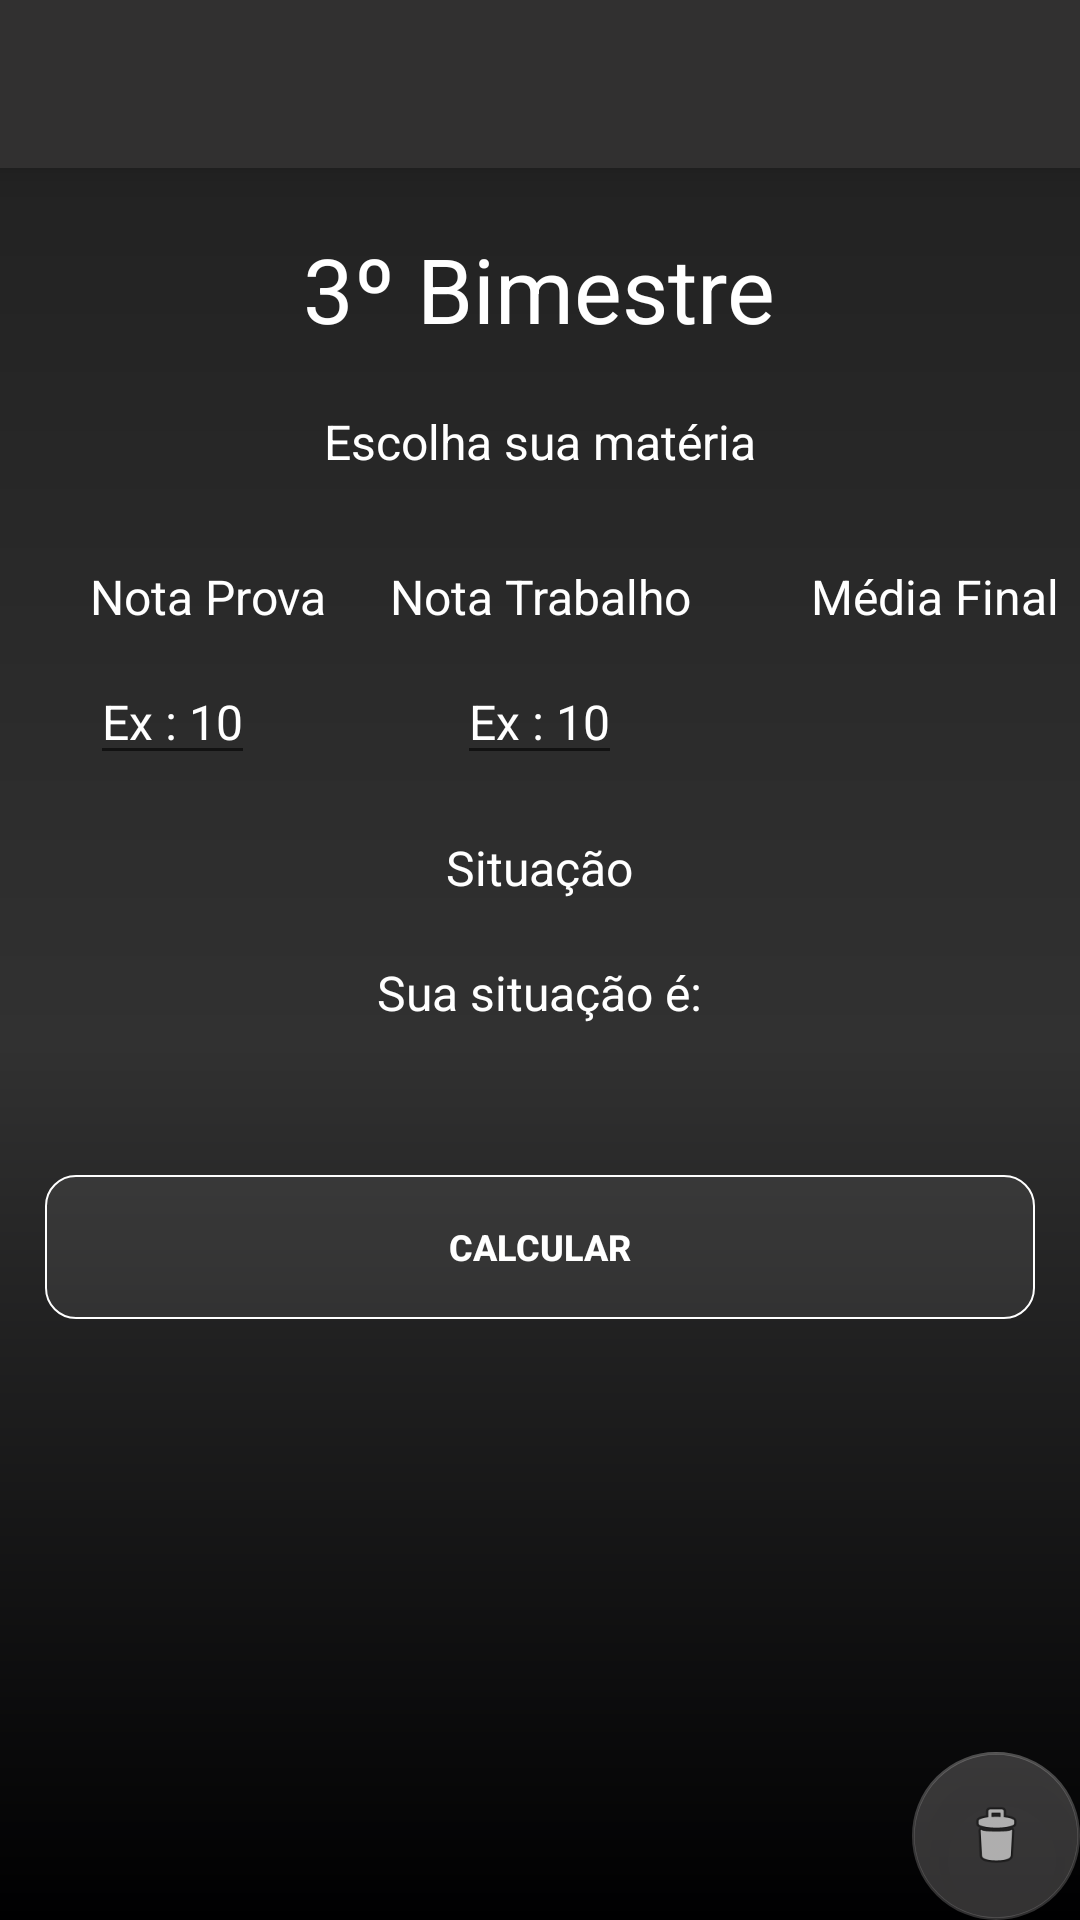

Named icons in this screenshot (1080x1920) and their centers, point (x, y):
delete: point (996, 1836)
